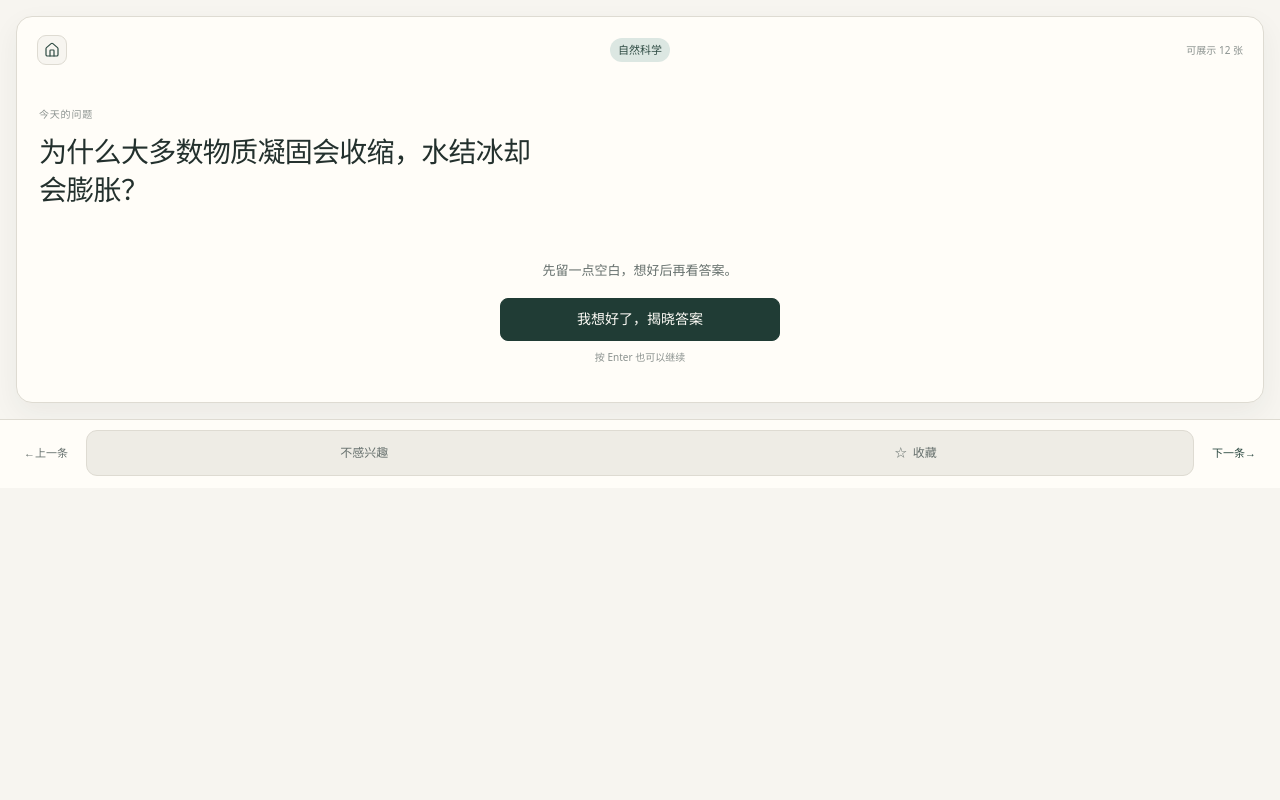
Scenario: KnowledgeCardView › queries selected card text only after explicit confirmation
Click the button "我想好了，揭晓答案".
click(640, 319)  # box [500,298,780,341]
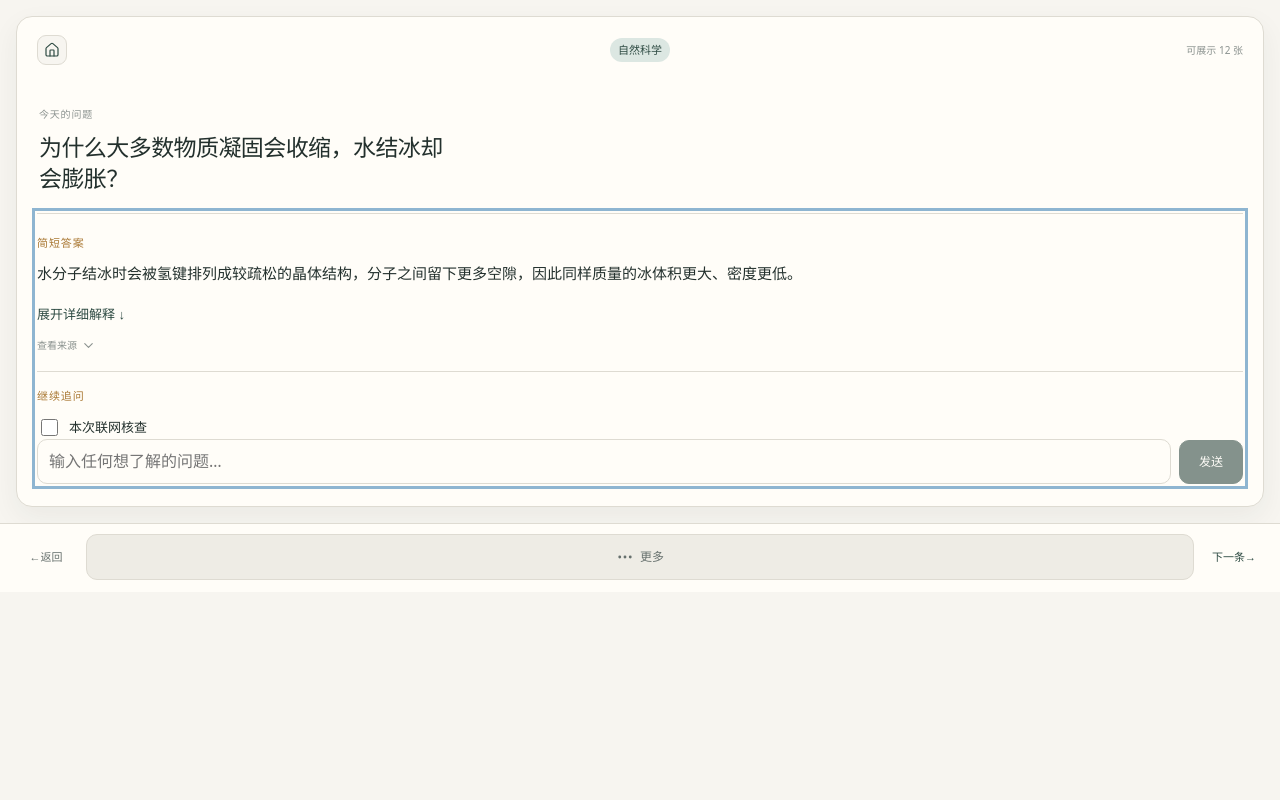
Type "尚未发送的手动草稿" into the text box named "输入追问".
click(604, 461); type("尚未发送的手动草稿")  # box [37,439,1171,484]
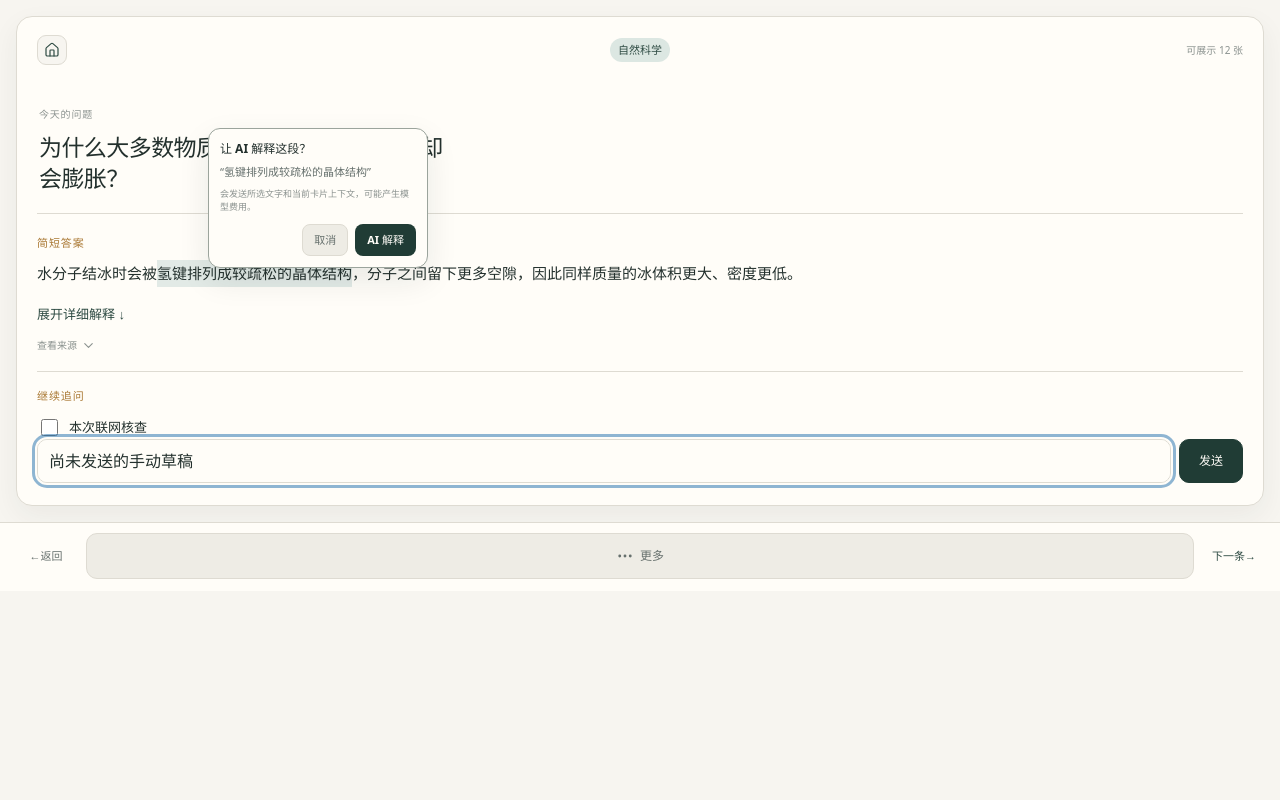
Expected: the dialog "让 AI 解释这段？" shows "氢键排列成较疏松的晶体结构", [224,164,367,179]
Click the button "AI 解释".
click(386, 240)  # box [355,224,416,256]
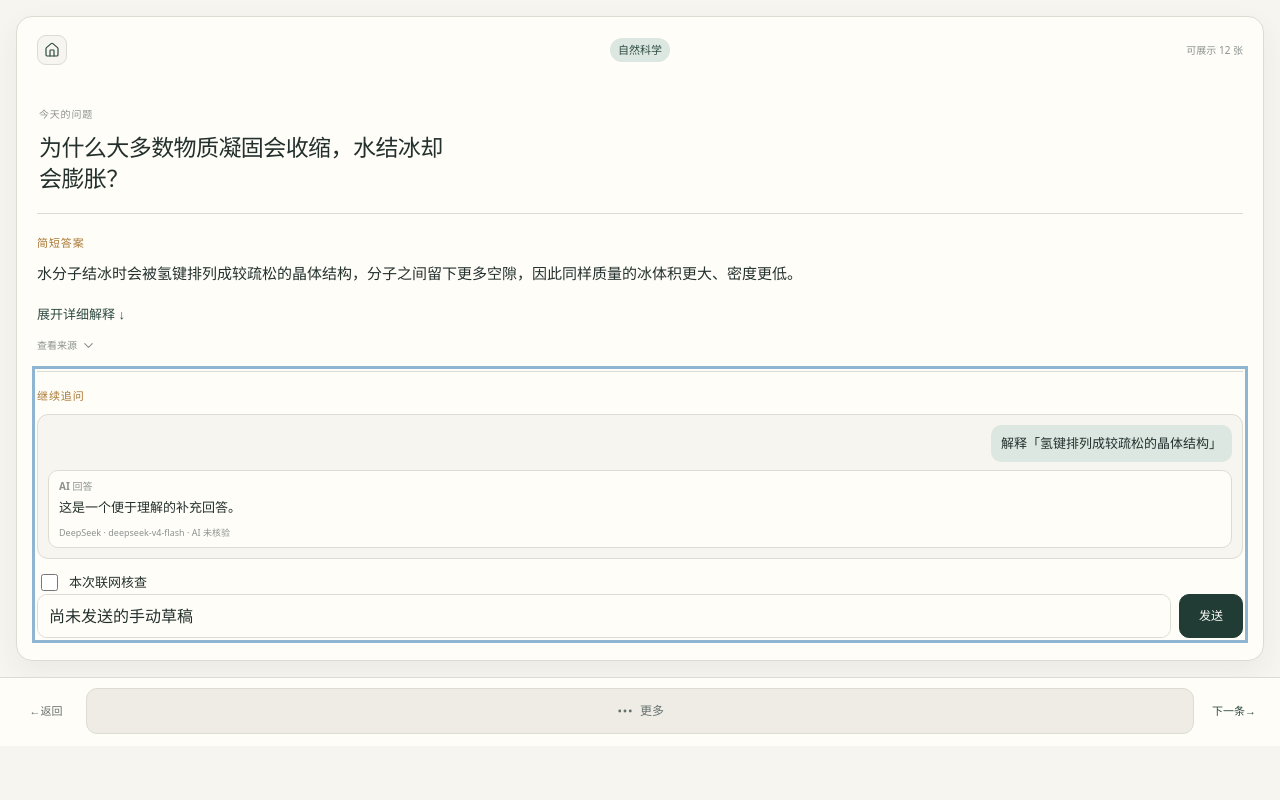
Expected: the text "这是一个便于理解的补充回答。" is shown, [59,498,241,516]
Expected: the text "让 AI 解释这段？" is gone
